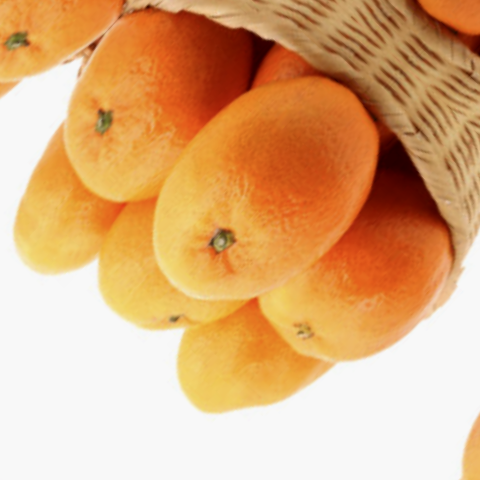orange: (101, 32, 426, 361), (215, 138, 480, 436), (9, 0, 305, 246)
